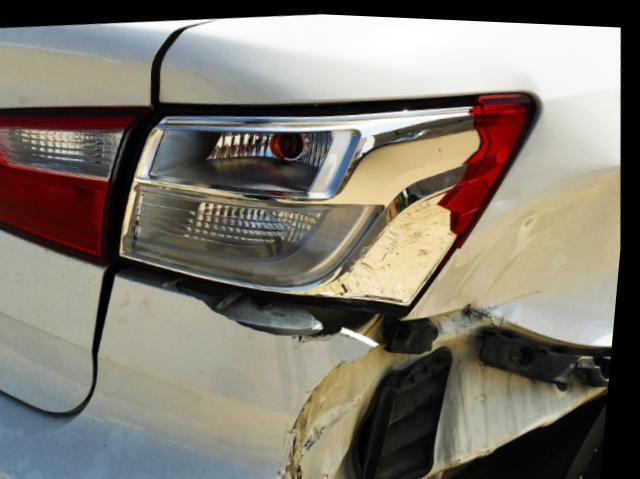dent: (425, 161, 624, 338)
dislocated part: (122, 252, 424, 346)
lamp broken: (122, 87, 539, 300)
no part: (289, 304, 618, 479)
